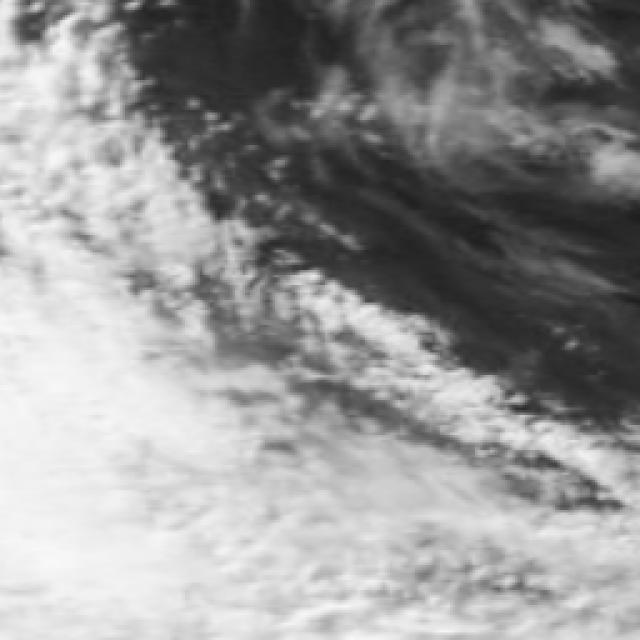CB: (0, 475, 198, 640), (161, 472, 335, 640), (0, 355, 165, 510), (359, 487, 491, 640), (10, 258, 138, 397)
